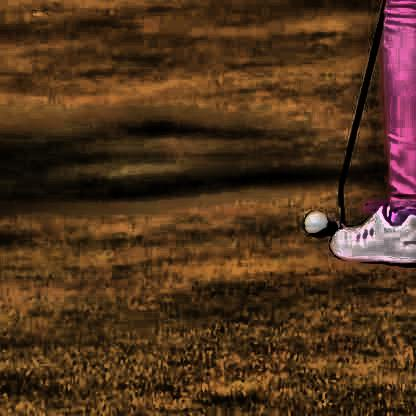golfball: (302, 208, 326, 232)
